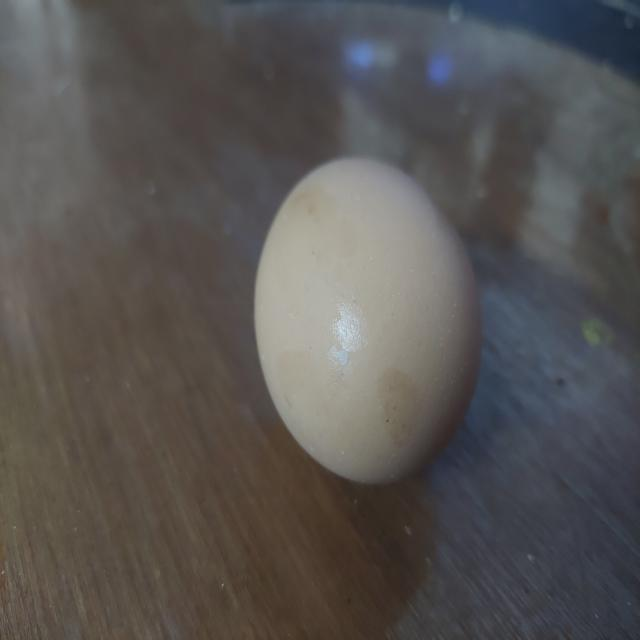Egg: (247, 150, 489, 493)
